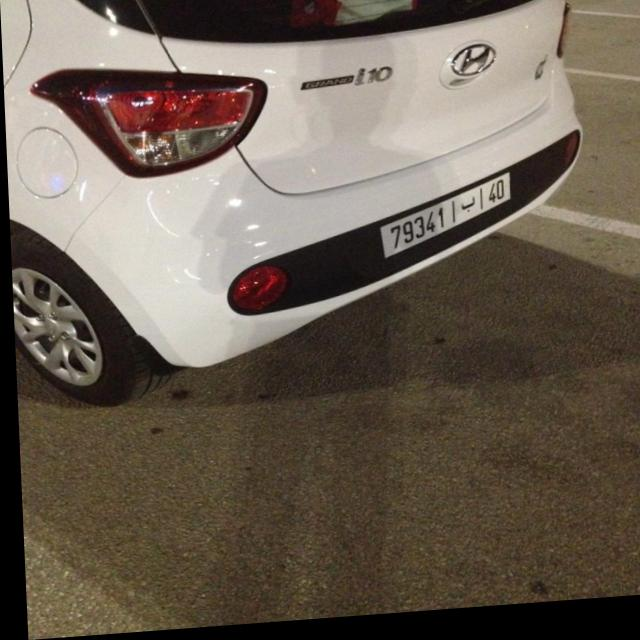License-Plate: (377, 181, 508, 263)
